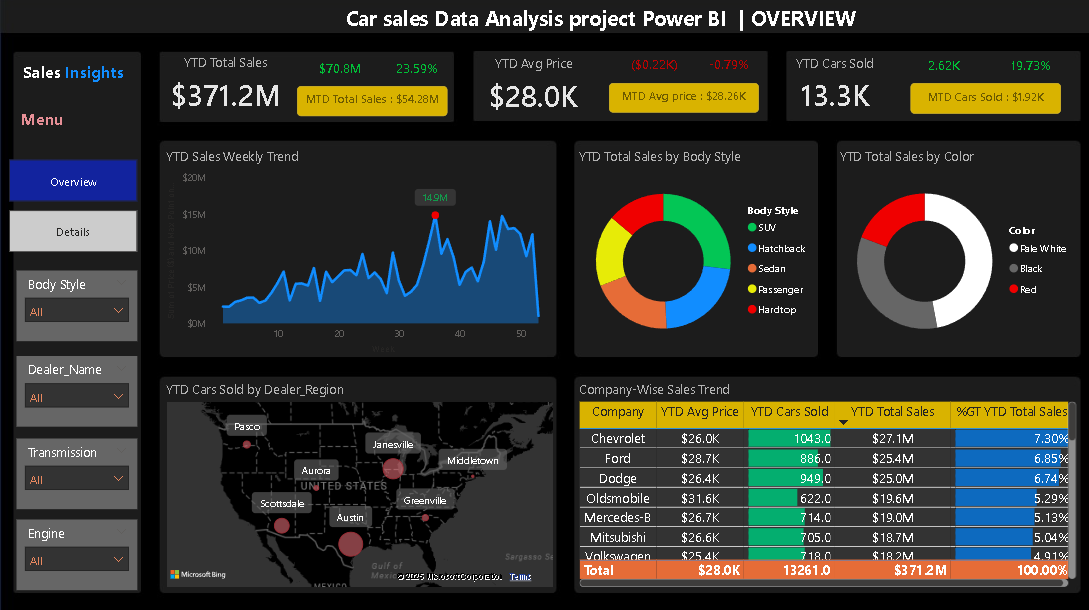

This screenshot's page, from the dashboard's own definition file:
{"tool":"powerbi","page":{"name":"Overview ","canvas":[1280,720],"ordinal":0},"visuals":[{"type":"card","title":"YTD Total Sales","fields":{"Values":["car_data.YTD Total Sales"]},"box":[189.5,64,148.8,77.9],"z":0},{"type":"card","fields":{"Values":["car_data.Sales Difference"]},"box":[355.8,64,82.6,38.4],"z":1000},{"type":"card","fields":{"Values":["car_data.YOY Sales growth"]},"box":[448.8,64,75.6,38.4],"z":2000},{"type":"card","fields":{"Values":["car_data.MTD KPI 1"]},"box":[347.7,102.3,176,35],"z":3000},{"type":"card","title":"YTD Avg Price","fields":{"Values":["car_data.YTD Avg Price"]},"box":[548.8,65.1,150,77.9],"z":4000},{"type":"card","fields":{"Values":["car_data.Avg Price Diff"]},"box":[714,64,101.2,24.4],"z":5000},{"type":"card","fields":{"Values":["car_data.YOY Avg Price Growth"]},"box":[801.2,64,101.2,24.4],"z":6000},{"type":"card","fields":{"Values":["car_data.MTD Avg Price KPI"]},"box":[712.8,98.8,175.6,34.9],"z":7000},{"type":"card","title":"YTD Cars Sold","fields":{"Values":["car_data.YTD Cars Sold"]},"box":[902.4,65.5,150,73.8],"z":8000},{"type":"card","fields":{"Values":["car_data.Cars Sold Diff"]},"box":[1052.4,65.5,101.2,25],"z":9000},{"type":"card","fields":{"Values":["car_data.YOY Cars Sold Growth"]},"box":[1153.6,65.5,101.2,25],"z":10000},{"type":"card","fields":{"Values":["car_data.MTD Cars Sold KPI"]},"box":[1065.5,97.6,176.2,35.7],"z":11000},{"type":"areaChart","title":"YTD Sales Weekly Trend","fields":{"Category":["Calender Table.Week"],"Y":["Sum(car_data.Price ($))","car_data.Max Point on Area Chart"]},"box":[189.6,173.1,462,245.3],"z":12000},{"type":"donutChart","fields":{"Category":["car_data.Body Style"],"Y":["car_data.YTD Total Sales"]},"box":[671.3,173.1,286,245.3],"z":13000},{"type":"donutChart","fields":{"Y":["car_data.YTD Total Sales"],"Category":["car_data.Color"]},"box":[976.8,173.1,286,245.3],"z":14000},{"type":"map","fields":{"Size":["car_data.YTD Cars Sold"],"Category":["car_data.Dealer_Region"]},"box":[189.6,445.5,462,246.8],"z":15000},{"type":"tableEx","title":"Company-Wise Sales Trend ","fields":{"Values":["car_data.Company","car_data.YTD Avg Price","car_data.YTD Cars Sold","car_data.YTD Total Sales1","car_data.YTD Total Sales"]},"box":[671.3,445.5,591.5,246.8],"z":16000},{"type":"textbox","box":[355.2,0,696.8,42.1],"z":17000},{"type":"slicer","fields":{"Values":["car_data.Body Style"]},"box":[19.6,317.6,141.5,82.8],"z":18000},{"type":"slicer","fields":{"Values":["car_data.Dealer_Name"]},"box":[19.6,418.4,141.5,82.8],"z":19000},{"type":"slicer","fields":{"Values":["car_data.Transmission"]},"box":[19.6,513.2,141.5,82.8],"z":20000},{"type":"slicer","fields":{"Values":["car_data.Engine"]},"box":[19.6,609.5,141.5,82.8],"z":21000},{"type":"textbox","box":[19.6,120.4,79.8,49.7],"z":22000},{"type":"textbox","box":[10.5,66.2,150.5,42.1],"z":23000},{"type":"pageNavigator","box":[10.5,188.1,150.5,108.4],"z":24000}]}

Visuals, with their boxes in screenshot pixels (x1, y1, x2, y2), scaled from the page's 1280x720 canvas onto the 1089x610 screenshot:
"YTD Total Sales" card: 161:54:288:120
card - car_data.Sales Difference: 303:54:373:87
card - car_data.YOY Sales growth: 382:54:446:87
card - car_data.MTD KPI 1: 296:87:446:116
"YTD Avg Price" card: 467:55:595:121
card - car_data.Avg Price Diff: 607:54:694:75
card - car_data.YOY Avg Price Growth: 682:54:768:75
card - car_data.MTD Avg Price KPI: 606:84:756:113
"YTD Cars Sold" card: 768:55:895:118
card - car_data.Cars Sold Diff: 895:55:981:77
card - car_data.YOY Cars Sold Growth: 981:55:1068:77
card - car_data.MTD Cars Sold KPI: 907:83:1056:113
"YTD Sales Weekly Trend" areaChart: 161:147:554:354
donutChart - car_data.Body Style x car_data.YTD Total Sales: 571:147:814:354
donutChart - car_data.YTD Total Sales x car_data.Color: 831:147:1074:354
map - car_data.YTD Cars Sold x car_data.Dealer_Region: 161:377:554:587
"Company-Wise Sales Trend " tableEx: 571:377:1074:587
textbox: 302:0:895:36
slicer - car_data.Body Style: 17:269:137:339
slicer - car_data.Dealer_Name: 17:354:137:425
slicer - car_data.Transmission: 17:435:137:505
slicer - car_data.Engine: 17:516:137:587
textbox: 17:102:85:144
textbox: 9:56:137:92
pageNavigator: 9:159:137:251
